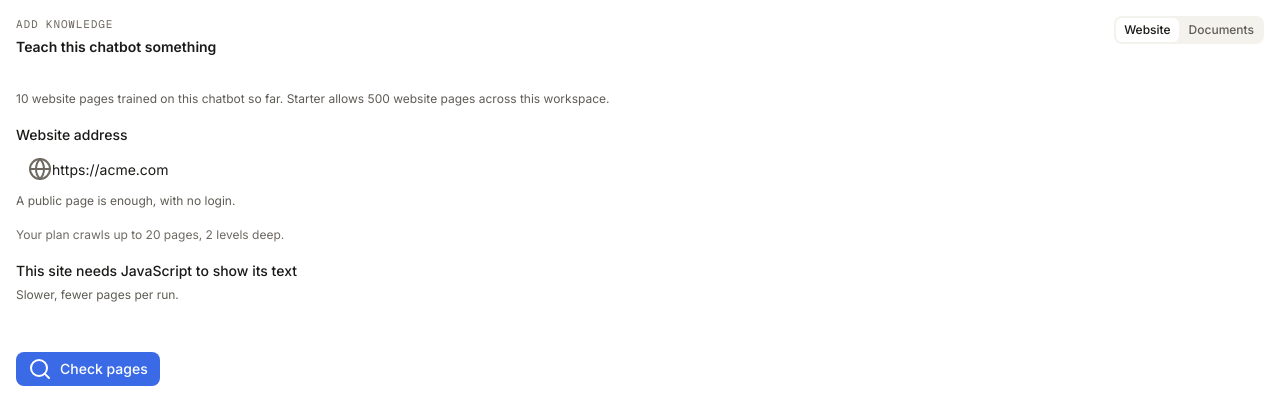
Test: AddKnowledgePanel — the document flow › still locks on a ceiling the plan really did state and really is spent
The image size is (1280, 403).
Click the radio button labelled "Documents".
click(1221, 30)  # box x1=1181 y1=18 x2=1262 y2=42
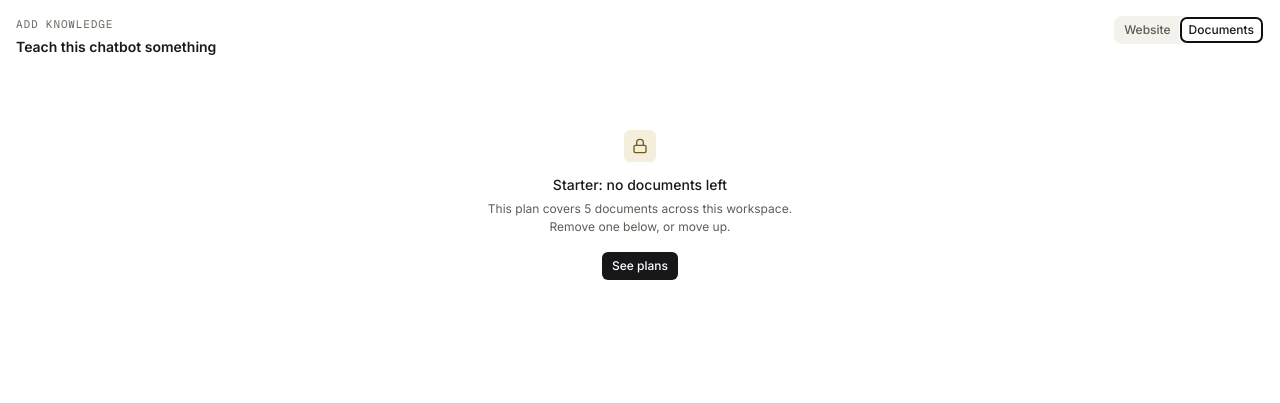
Check: the text "Starter: no documents left" is shown, box x1=553 y1=176 x2=727 y2=193
